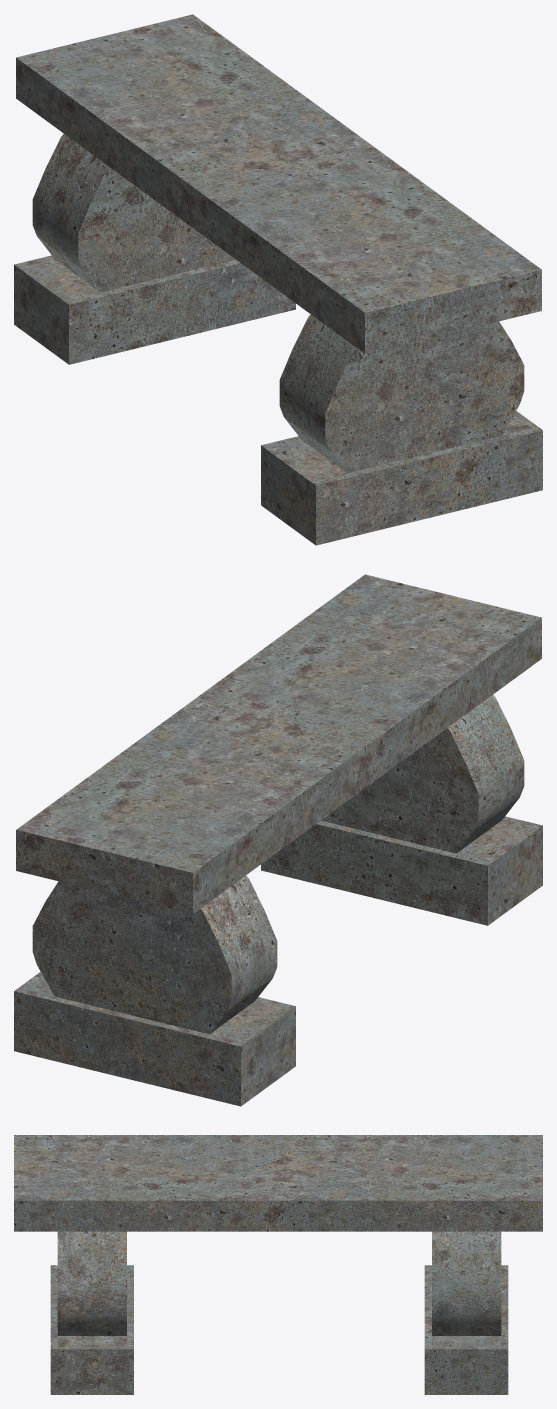
File: Bench.fbx
The picture shows the model from 3 angles, top to bottom: view 1: azimuth 30°, elevation 25°; view 2: azimuth 150°, elevation 25°; view 3: azimuth 270°, elevation 25°; orthographic projection. The views are drawn at different scales.
Parts seen in each view (by area): view 1: pCube4; view 2: pCube4; view 3: pCube4.
Part boxes in pixels (<box>): pCube4: <box>14,14,542,545</box>; pCube4: <box>14,574,542,1106</box>; pCube4: <box>14,1135,542,1394</box>.
Bounding box in the file's own units: 2.86 × 2.94 × 7.62.
Materials: 1 (1 with a texture image).
